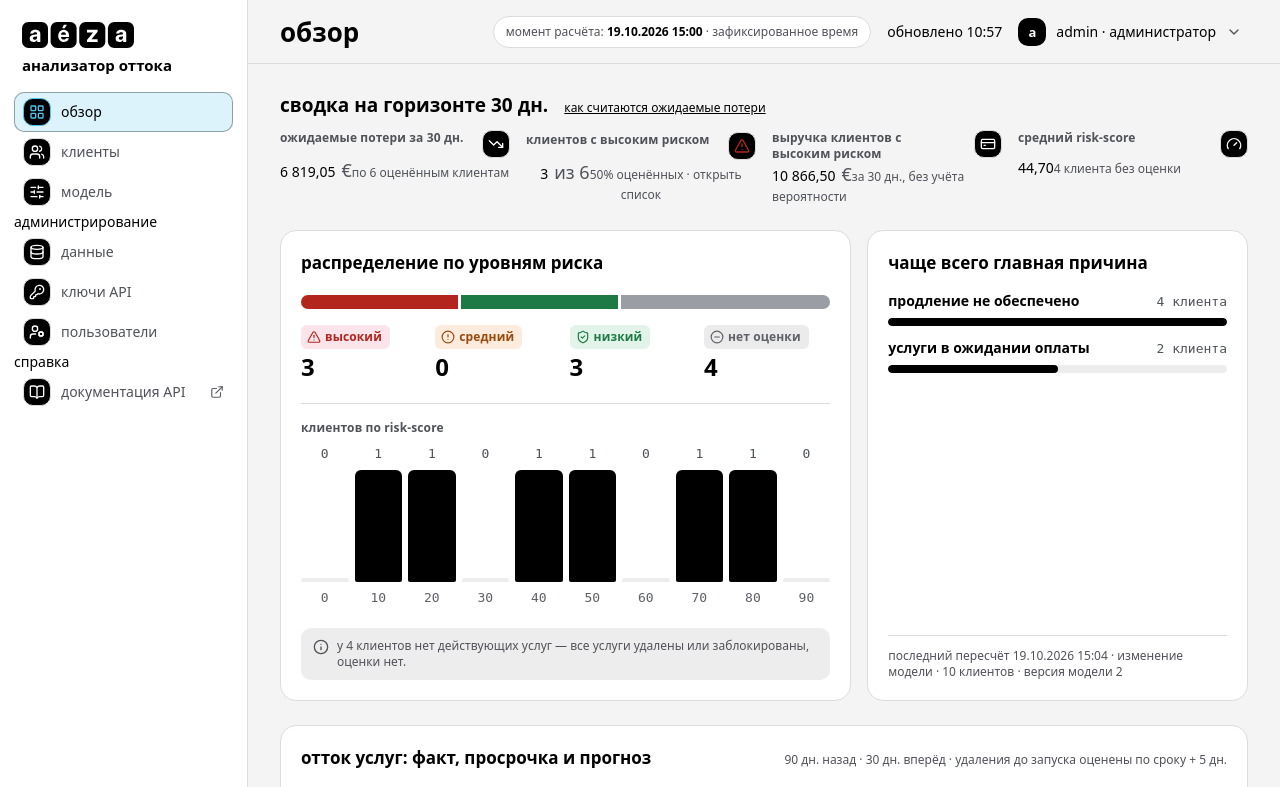
it: overview page › explains how the loss is calculated in a dialog
What coordinates should you click on to do the following:
click the button "как считаются ожидаемые потери"
I would click on:
 (665, 108)
Its box is [564,100,766,116].
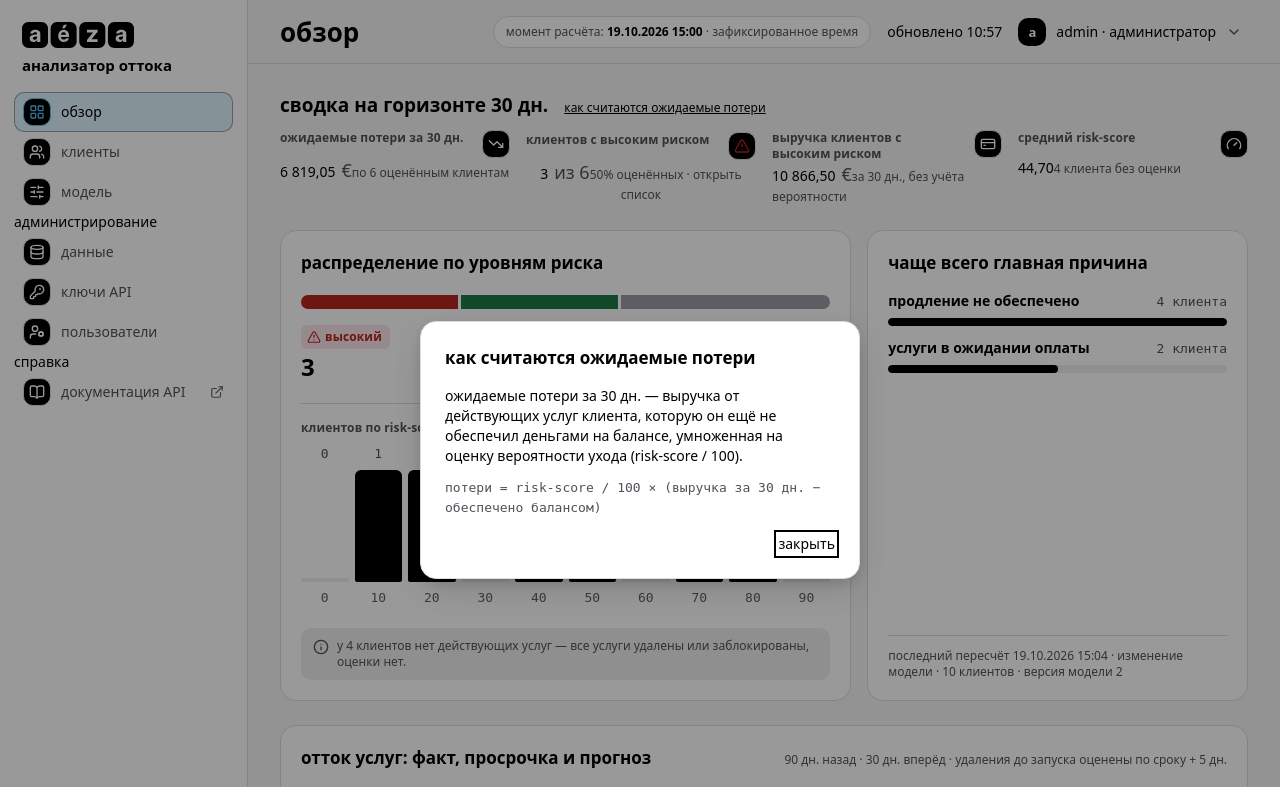
Check: the text "умноженная на оценку вероятности ухода" is shown, box [445,386,783,465]
Check: the text "потери = risk-score / 100 × (выручка за 30 дн. − обеспечено балансом)" is shown, box [445,478,835,518]
